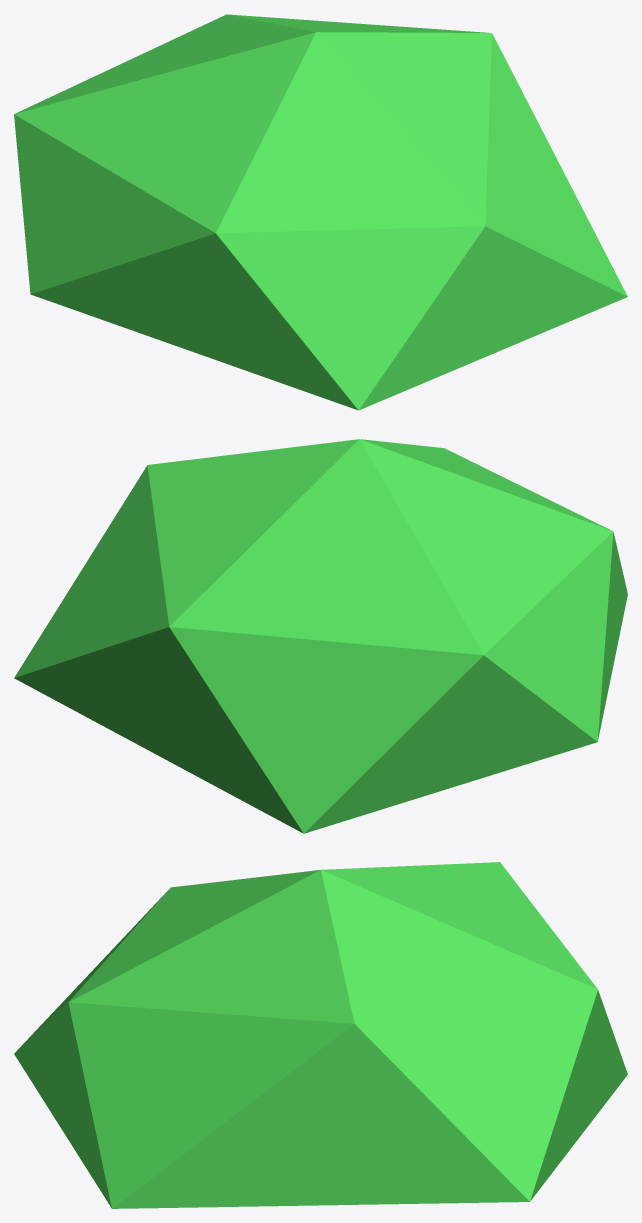
Rendered from Bush.fbx.
3 renders of one model, top to bottom at view 1: azimuth 30°, elevation 25°; view 2: azimuth 150°, elevation 25°; view 3: azimuth 270°, elevation 25°, orthographic.
Parts seen in each view (by area): view 1: Icosphere; view 2: Icosphere; view 3: Icosphere.
Boxes of the visible parts, x1,y1,x2,y2 form: Icosphere: [14, 14, 627, 410]; Icosphere: [14, 439, 627, 833]; Icosphere: [14, 862, 627, 1208].
Size of the model in its own units: 190 by 92.45 by 204.
